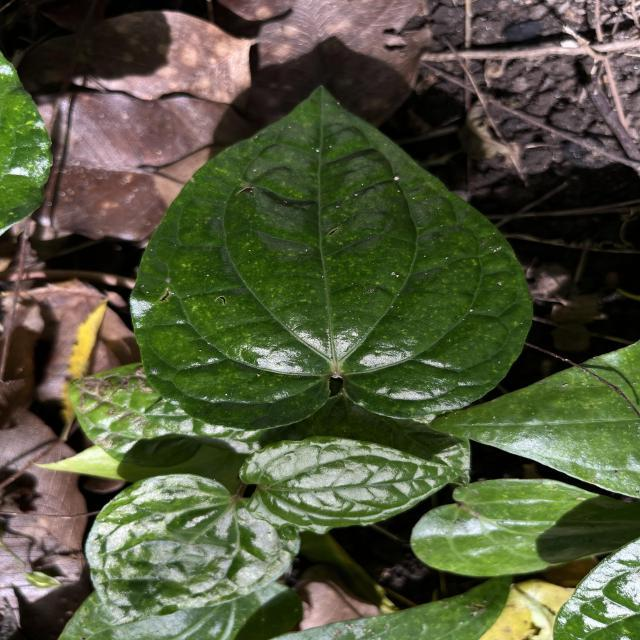Piper betle: (125, 79, 538, 435)
